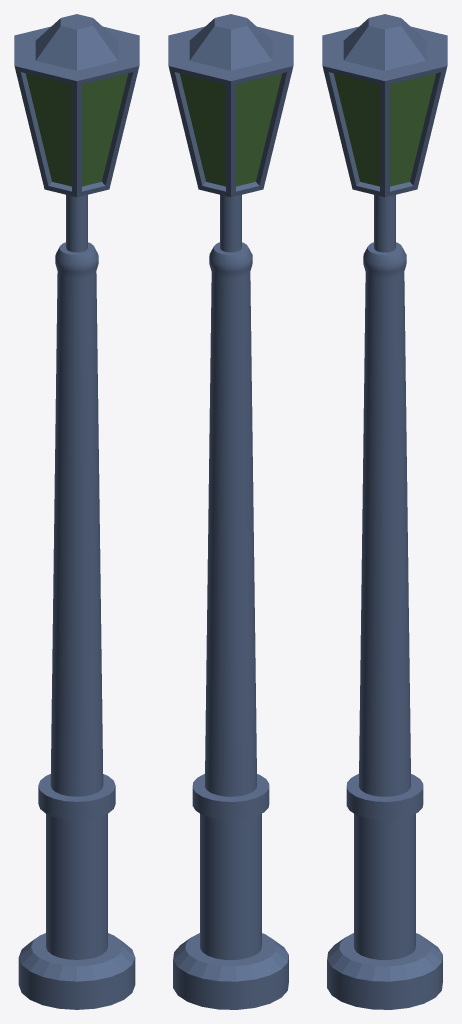
Rendered from StreetLampMesh.fbx.
The picture shows the model from 3 angles, left to right: view 1: azimuth 90°, elevation 25°; view 2: azimuth 150°, elevation 25°; view 3: azimuth 330°, elevation 25°; orthographic projection.
Visible parts, largest first — view 1: pCylinder5; view 2: pCylinder5; view 3: pCylinder5.
Part boxes in pixels (x1,y1,x2,y2): pCylinder5: (14, 14, 139, 1009); pCylinder5: (168, 14, 293, 1009); pCylinder5: (322, 14, 447, 1009).
Bounding box in the file's own units: 2 × 14.73 × 1.73.
